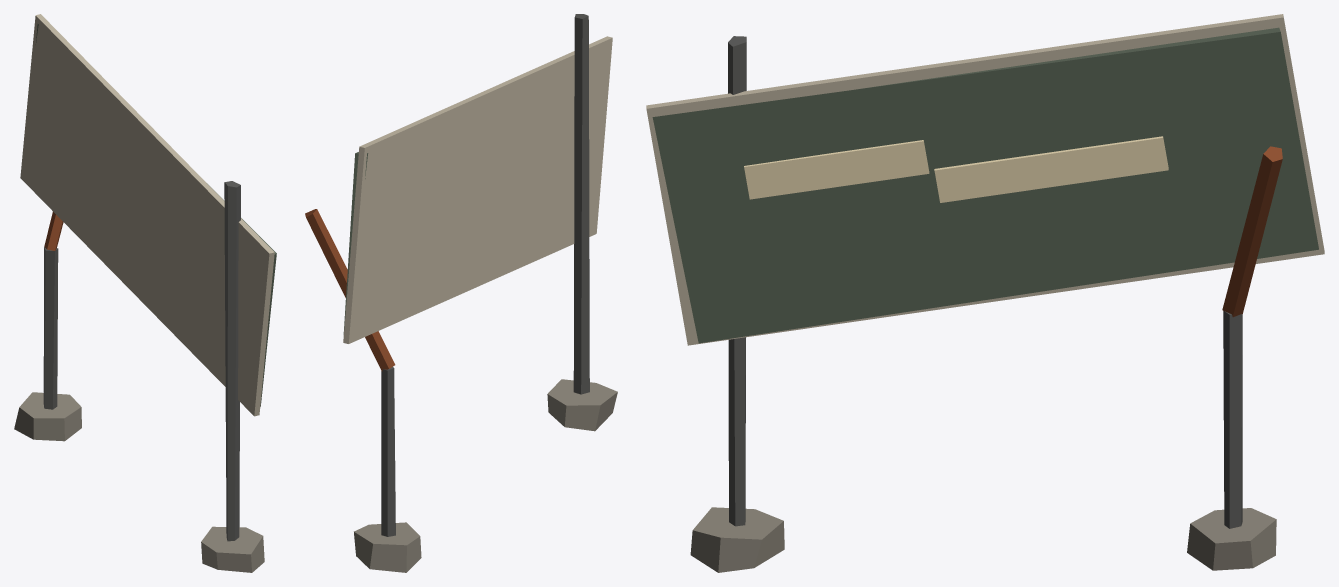
File: route_sign.glb
3 views of the same model, side by side, from view 1: azimuth 30°, elevation 25°; view 2: azimuth 150°, elevation 25°; view 3: azimuth 270°, elevation 25° (orthographic). The views are drawn at different scales.
Parts seen in each view (by area): view 1: route_sign; view 2: route_sign; view 3: route_sign.
Part boxes in pixels (bbox=[...]): route_sign: bbox=[14, 14, 276, 572]; route_sign: bbox=[305, 14, 617, 572]; route_sign: bbox=[646, 14, 1324, 572].
Bounding box in the file's own units: 0.862 × 3.65 × 4.1.
